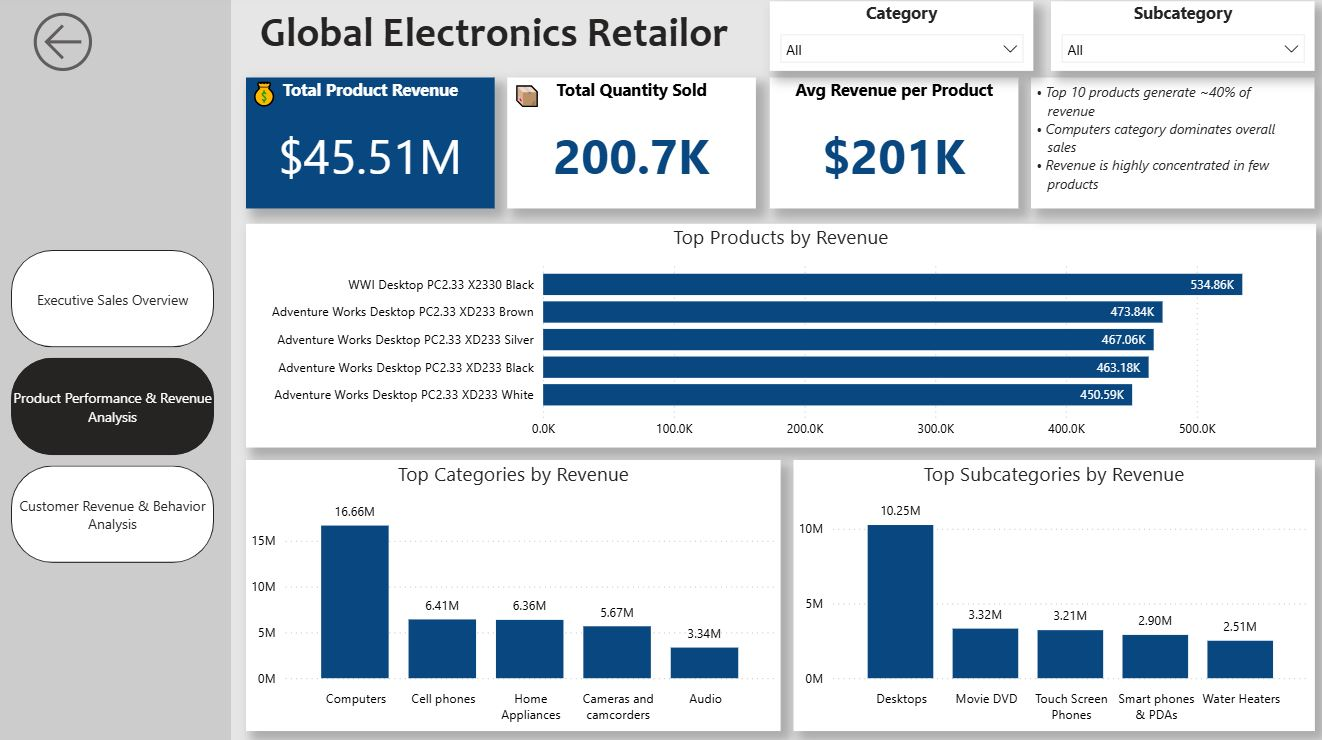

This screenshot's page, from the dashboard's own definition file:
{"tool":"powerbi","page":{"name":"Product Performance & Revenue Analysis","canvas":[1280,720],"ordinal":1},"visuals":[{"type":"shape","box":[0,0,226.8,720.2],"z":0},{"type":"textbox","title":"Global Electronics Retailor","box":[226.8,10.9,507.9,56.7],"z":1000},{"type":"card","title":"Total Product Revenue","fields":{"Values":["Table.Total Product Revenue"]},"box":[241.3,79.6,240.1,126.7],"z":2000},{"type":"textbox","box":[241.3,75,48.3,41],"z":3000},{"type":"card","title":"Total Quantity Sold","fields":{"Values":["Table.Total Quantity Sold"]},"box":[494,79.6,240.1,126.7],"z":4000},{"type":"card","title":"Avg Revenue per Product","fields":{"Values":["Table.Total Quantity Sold"]},"box":[746.8,79.6,240.1,126.7],"z":5000},{"type":"textbox","box":[494.6,79.6,51.9,42.2],"z":6000},{"type":"barChart","title":"Top Products by Revenue","fields":{"Category":["Product Performance.ProductName"],"Y":["Table.Total Product Revenue"]},"box":[241.3,220.8,1032.7,216],"z":7000},{"type":"textbox","box":[998.9,79.6,273.9,126.7],"z":8000},{"type":"columnChart","title":"Top Categories by Revenue","fields":{"Y":["Table.Total Product Revenue"],"Category":["Product Performance.Category"]},"box":[241.3,448.8,516.4,261.8],"z":9000},{"type":"columnChart","title":"Top Subcategories by Revenue","fields":{"Y":["Table.Total Product Revenue"],"Category":["Product Performance.Subcategory"]},"box":[769.7,448.8,503.1,261.8],"z":10000},{"type":"slicer","title":"Category","fields":{"Values":["Product Performance.Category"]},"box":[746.8,6,254.6,67.6],"z":11000},{"type":"slicer","title":"Subcategory","fields":{"Values":["Product Performance.Subcategory"]},"box":[1018.2,6,254.6,67.6],"z":12000},{"type":"actionButton","box":[29,9.7,100.1,71.2],"z":12001},{"type":"pageNavigator","box":[14.5,246.1,196.6,302.8],"z":12002}]}

Visuals, with their boxes in screenshot pixels (x1, y1, x2, y2), scaled from the page's 1280x720 canvas onto the 1322x740 screenshot:
shape: Rect(0, 0, 234, 739)
"Global Electronics Retailor" textbox: Rect(234, 11, 759, 69)
"Total Product Revenue" card: Rect(249, 82, 497, 212)
textbox: Rect(249, 77, 299, 119)
"Total Quantity Sold" card: Rect(510, 82, 758, 212)
"Avg Revenue per Product" card: Rect(771, 82, 1019, 212)
textbox: Rect(511, 82, 564, 125)
"Top Products by Revenue" barChart: Rect(249, 227, 1316, 449)
textbox: Rect(1032, 82, 1315, 212)
"Top Categories by Revenue" columnChart: Rect(249, 461, 783, 730)
"Top Subcategories by Revenue" columnChart: Rect(795, 461, 1315, 730)
"Category" slicer: Rect(771, 6, 1034, 76)
"Subcategory" slicer: Rect(1052, 6, 1315, 76)
actionButton: Rect(30, 10, 133, 83)
pageNavigator: Rect(15, 253, 218, 564)
